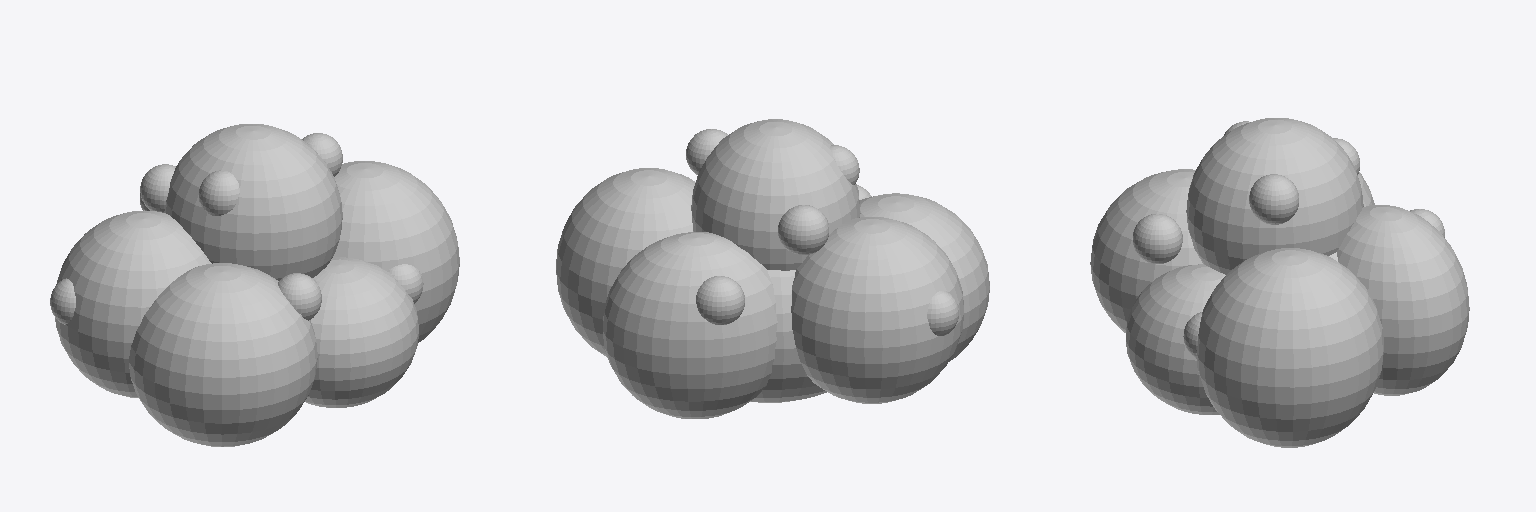
Rendered from object_bush1.obj.
The picture shows the model from 3 angles: view 1: azimuth 30°, elevation 25°; view 2: azimuth 150°, elevation 25°; view 3: azimuth 270°, elevation 25°; orthographic projection.
Parts seen in each view (by area): view 1: Sphere.004, Sphere.006, Sphere.002, Sphere.005, Sphere.001, Sphere.007, Sphere.009, Sphere.010, Sphere.012, Sphere.008, Sphere.013; view 2: Sphere.002, Sphere.003, Sphere.006, Sphere.001, Sphere.004, Sphere, Sphere.010, Sphere.011, Sphere.012, Sphere.008, Sphere.007; view 3: Sphere.001, Sphere.006, Sphere.003, Sphere.005, Sphere.004, Sphere.008, Sphere.009.
Part boxes in pixels (bbox=[...]): Sphere.004: bbox=[129, 263, 317, 446]; Sphere.006: bbox=[164, 124, 342, 280]; Sphere.002: bbox=[55, 210, 211, 397]; Sphere.005: bbox=[305, 257, 418, 407]; Sphere.001: bbox=[333, 161, 459, 342]; Sphere.007: bbox=[199, 170, 239, 215]; Sphere.009: bbox=[278, 273, 321, 320]; Sphere.010: bbox=[140, 164, 175, 212]; Sphere.012: bbox=[50, 278, 75, 324]; Sphere.008: bbox=[302, 133, 342, 176]; Sphere.013: bbox=[387, 264, 423, 303]; Sphere.002: bbox=[791, 217, 963, 403]; Sphere.003: bbox=[603, 232, 777, 418]; Sphere.006: bbox=[691, 119, 860, 270]; Sphere.001: bbox=[556, 168, 695, 357]; Sphere.004: bbox=[860, 193, 989, 361]; Sphere: bbox=[750, 270, 826, 402]; Sphere.010: bbox=[778, 205, 828, 254]; Sphere.011: bbox=[696, 276, 744, 324]; Sphere.012: bbox=[927, 290, 958, 335]; Sphere.008: bbox=[686, 129, 727, 174]; Sphere.007: bbox=[830, 145, 859, 184]; Sphere.001: bbox=[1196, 248, 1383, 447]; Sphere.006: bbox=[1186, 118, 1363, 274]; Sphere.003: bbox=[1337, 205, 1469, 395]; Sphere.005: bbox=[1126, 264, 1225, 414]; Sphere.004: bbox=[1090, 169, 1202, 332]; Sphere.008: bbox=[1249, 174, 1298, 224]; Sphere.009: bbox=[1133, 214, 1182, 263].
Bounding box in the file's own units: 3.9 × 2.44 × 3.28.